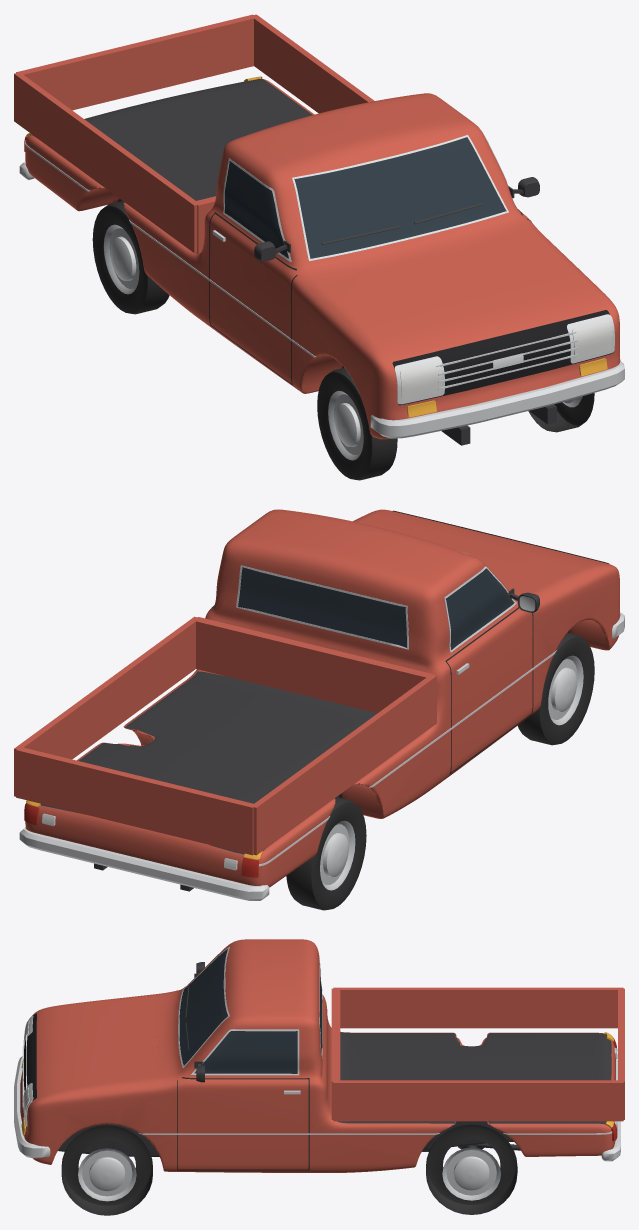
The model's file is hilux.glb.
3 views of the same model, one above another, from view 1: azimuth 30°, elevation 25°; view 2: azimuth 150°, elevation 25°; view 3: azimuth 270°, elevation 25° (orthographic). The views are drawn at different scales.
Visible parts, largest first — view 1: paint, trim, glass, wheel_fr, wheel_rr, headlights, wheel_fl, mirrors; view 2: paint, trim, glass, wheel_rr, wheel_fr, taillights; view 3: paint, trim, glass, wheel_fl, wheel_rl.
Boxes of the visible parts, x1=… form: paint: x1=25, y1=79, x2=620, y2=439; trim: x1=14, y1=14, x2=624, y2=445; glass: x1=224, y1=137, x2=506, y2=258; wheel_fr: x1=317, y1=368, x2=397, y2=480; wheel_rr: x1=92, y1=201, x2=169, y2=314; headlights: x1=400, y1=320, x2=612, y2=400; wheel_fl: x1=528, y1=393, x2=594, y2=432; mirrors: x1=254, y1=177, x2=539, y2=261; paint: x1=25, y1=509, x2=620, y2=887; trim: x1=14, y1=510, x2=624, y2=900; glass: x1=238, y1=567, x2=513, y2=649; wheel_rr: x1=286, y1=797, x2=366, y2=910; wheel_fr: x1=517, y1=632, x2=594, y2=745; taillights: x1=24, y1=803, x2=259, y2=877; paint: x1=20, y1=939, x2=615, y2=1172; trim: x1=14, y1=947, x2=624, y2=1170; glass: x1=179, y1=949, x2=322, y2=1073; wheel_fl: x1=61, y1=1125, x2=152, y2=1215; wheel_rl: x1=426, y1=1124, x2=517, y2=1214.
Bounding box in the file's own units: 1.86 × 1.57 × 4.33.
